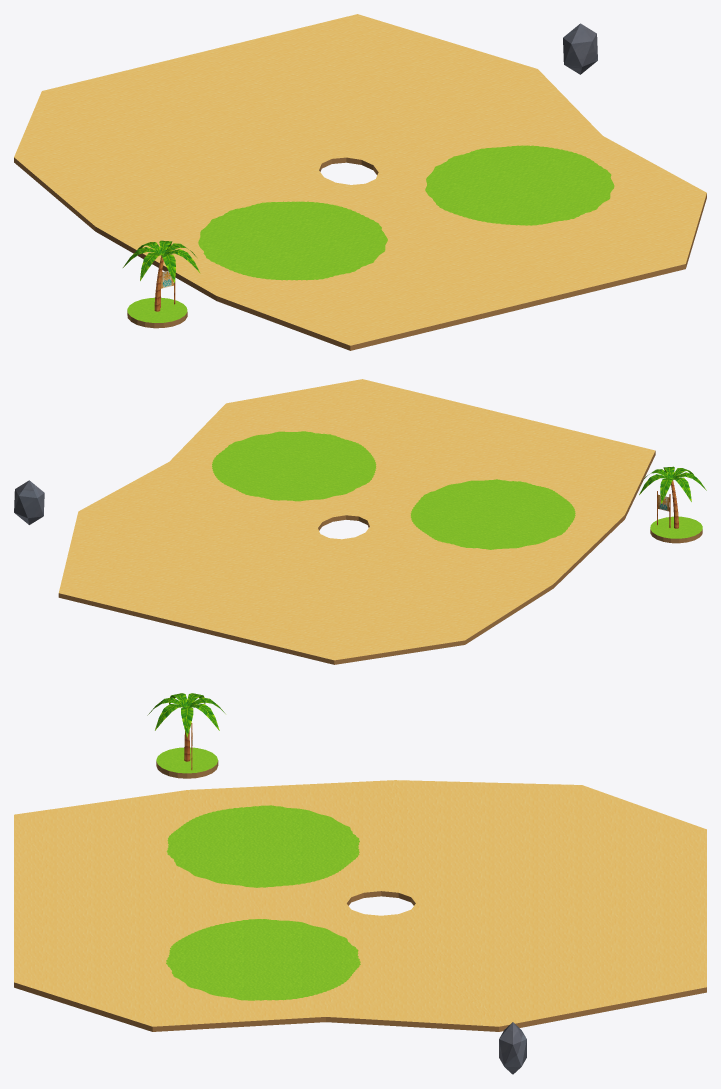
Rendered from surface-13-B5GHwrN7.glb.
3 views of the same model, one above another, from view 1: azimuth 30°, elevation 25°; view 2: azimuth 150°, elevation 25°; view 3: azimuth 270°, elevation 25° (orthographic). The views are drawn at different scales.
Parts seen in each view (by area): view 1: HI_Surface_13, FLC_Regions_13, HI_SceneryIslet_0.002, HI_Palm.002, HI_BasaltOutcrop.002; view 2: HI_Surface_13, FLC_Regions_13, HI_SceneryIslet_0.002, HI_Palm.002, HI_BasaltOutcrop.002; view 3: HI_Surface_13, FLC_Regions_13, HI_SceneryIslet_0.002, HI_Palm.002, HI_BasaltOutcrop.002.
Part boxes in pixels (x1,y1,x2,y2): HI_Surface_13: (14, 14, 706, 350); FLC_Regions_13: (198, 145, 614, 280); HI_SceneryIslet_0.002: (127, 297, 187, 328); HI_Palm.002: (123, 240, 199, 311); HI_BasaltOutcrop.002: (563, 23, 597, 74); HI_Surface_13: (58, 379, 655, 664); FLC_Regions_13: (212, 431, 575, 549); HI_SceneryIslet_0.002: (650, 516, 702, 543); HI_Palm.002: (639, 466, 706, 528); HI_BasaltOutcrop.002: (14, 480, 44, 524); HI_Surface_13: (14, 780, 706, 1031); FLC_Regions_13: (166, 805, 360, 1000); HI_SceneryIslet_0.002: (156, 747, 218, 778); HI_Palm.002: (147, 693, 225, 761); HI_BasaltOutcrop.002: (499, 1022, 526, 1074).
Size of the model in its own units: 40.53 by 5.15 by 38.
Materials: 7 (6 with a texture image).
